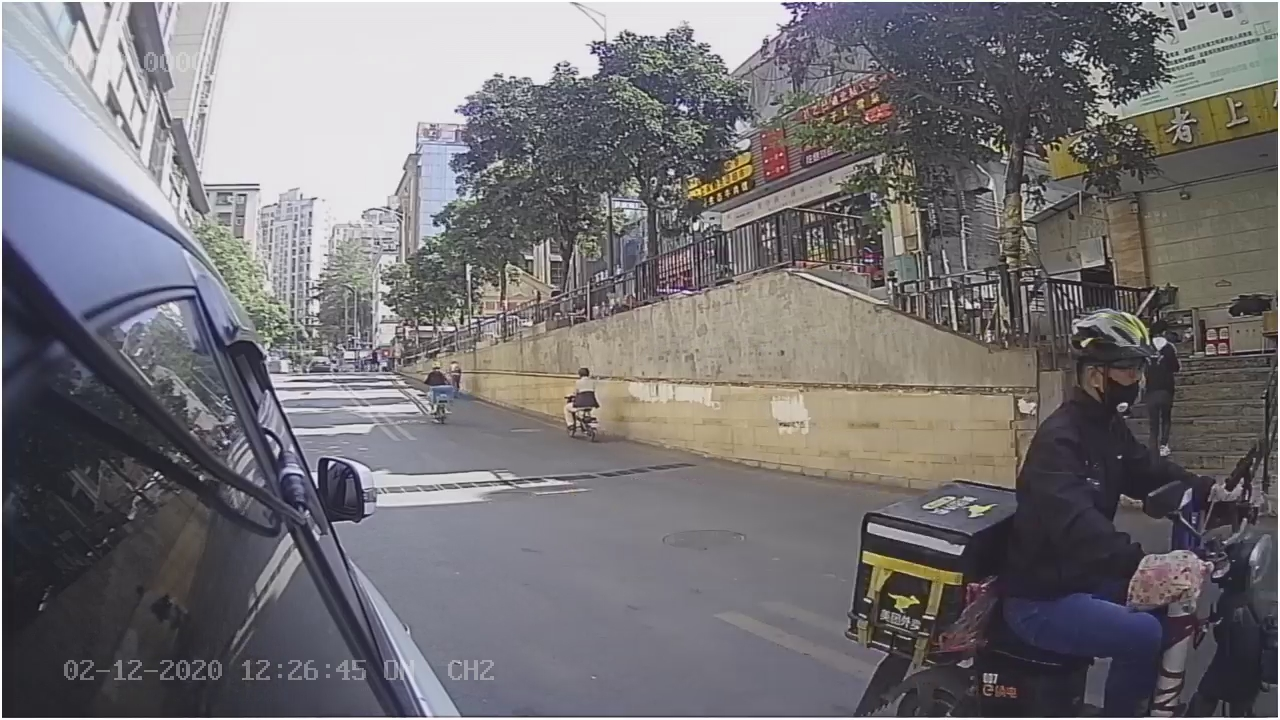person: (1017, 288, 1227, 582)
